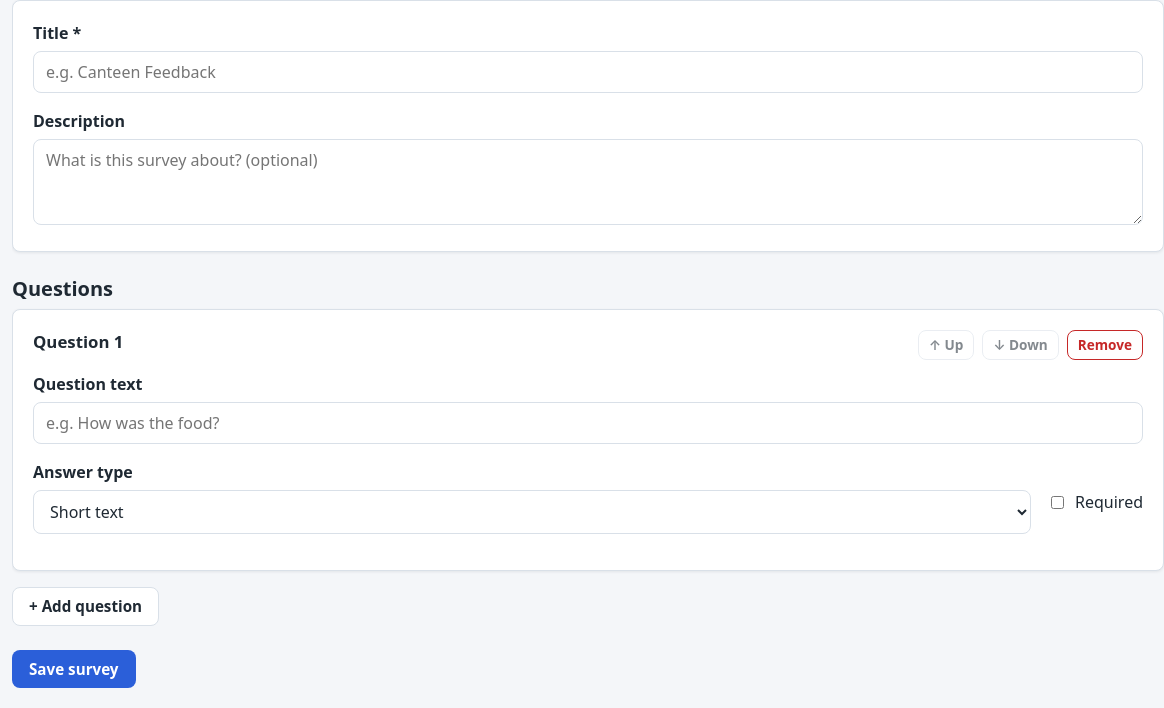
Test: SurveyForm › shows an error and does not save when the title is empty
The width and height of the screenshot is (1164, 708).
Click the button "Save survey": {"x": 74, "y": 669} [12,650,136,688]
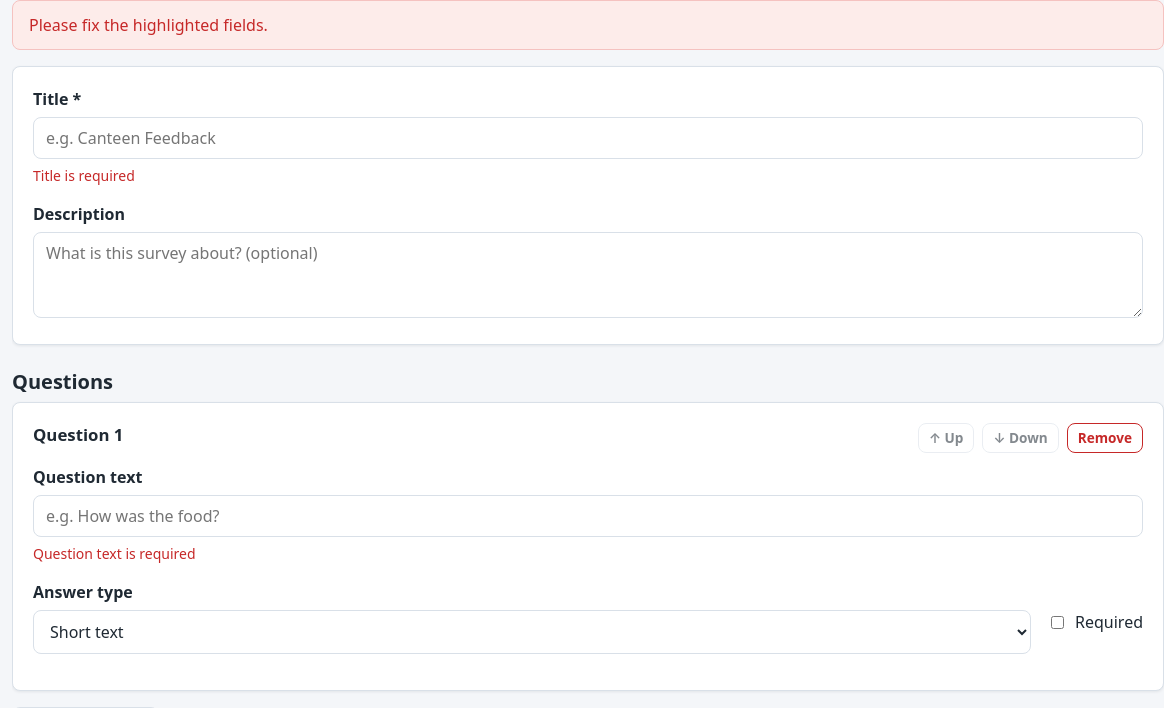
Result: the text "Title is required" is shown at [33,166,135,185]
